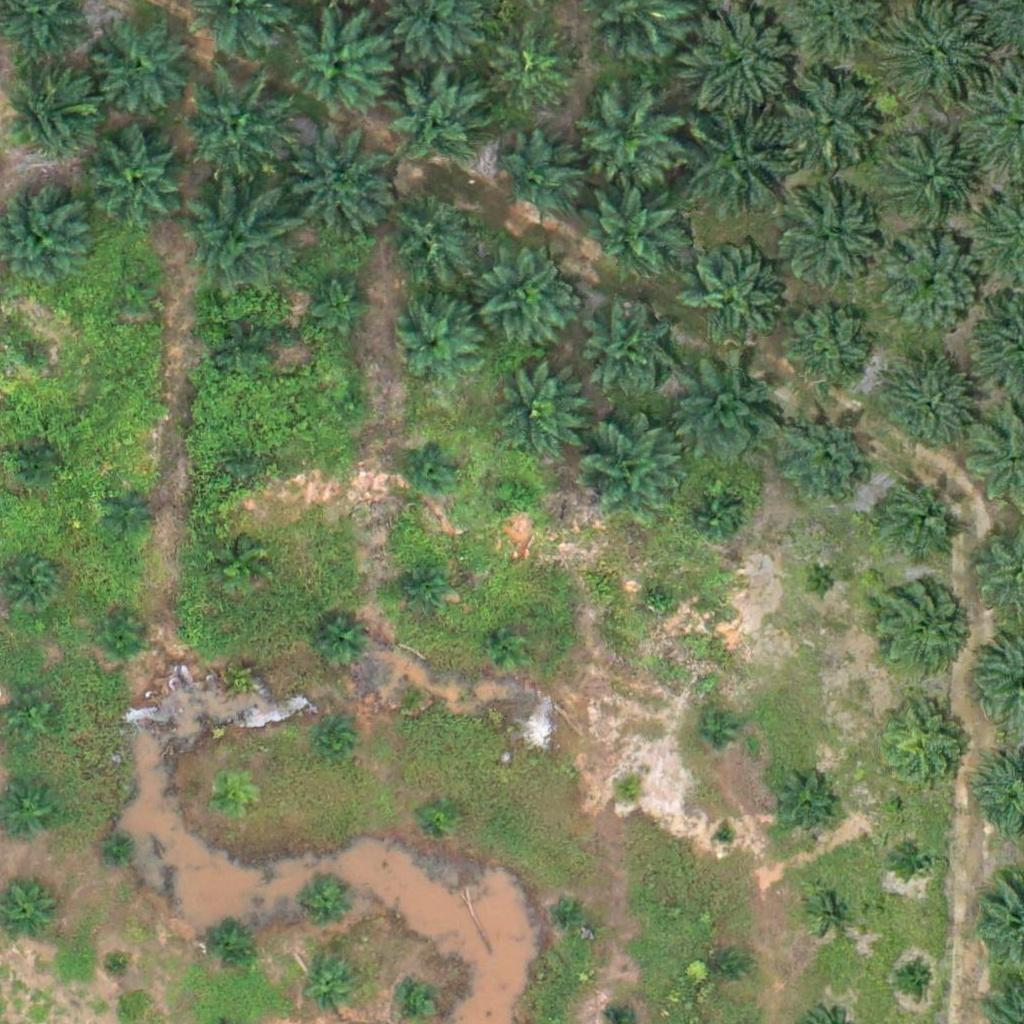Kelapa_Sawit: (283, 129, 396, 242), (683, 108, 796, 221), (674, 357, 787, 470), (182, 73, 294, 186), (178, 181, 290, 294), (581, 181, 681, 282), (476, 250, 576, 351), (387, 68, 487, 169), (380, 187, 480, 288), (288, 14, 388, 115), (86, 130, 186, 231), (93, 18, 193, 119), (682, 248, 782, 349), (779, 196, 879, 297), (777, 75, 877, 176), (890, 5, 990, 106), (883, 234, 983, 335), (879, 359, 979, 460), (868, 468, 968, 569), (870, 574, 970, 675), (875, 695, 975, 796), (581, 422, 681, 523), (577, 91, 677, 191), (484, 362, 584, 462), (496, 135, 584, 223), (489, 27, 577, 115), (583, 305, 671, 393), (886, 139, 974, 227), (394, 302, 481, 391), (783, 413, 870, 502), (782, 306, 869, 394), (770, 776, 833, 839), (3, 550, 66, 613), (310, 270, 372, 333), (214, 539, 264, 590), (311, 619, 361, 670), (206, 776, 256, 827), (301, 877, 351, 928), (689, 490, 739, 541), (7, 441, 57, 492), (107, 485, 157, 536), (219, 648, 269, 699), (6, 699, 56, 749), (199, 916, 249, 966), (306, 961, 356, 1011), (110, 269, 160, 319), (6, 334, 56, 384), (221, 328, 271, 378), (395, 564, 445, 614), (408, 441, 458, 491), (706, 948, 744, 986), (100, 829, 138, 867), (498, 476, 536, 514), (489, 627, 527, 665), (641, 583, 679, 621), (803, 564, 841, 602), (609, 773, 647, 811), (900, 842, 938, 880), (104, 616, 142, 653), (399, 985, 436, 1023), (894, 959, 931, 997), (812, 892, 849, 930), (227, 443, 264, 481), (332, 388, 369, 426), (693, 712, 730, 750), (390, 673, 427, 711), (101, 943, 138, 981), (316, 723, 353, 760), (421, 796, 458, 833), (552, 894, 589, 931), (712, 822, 737, 847)
